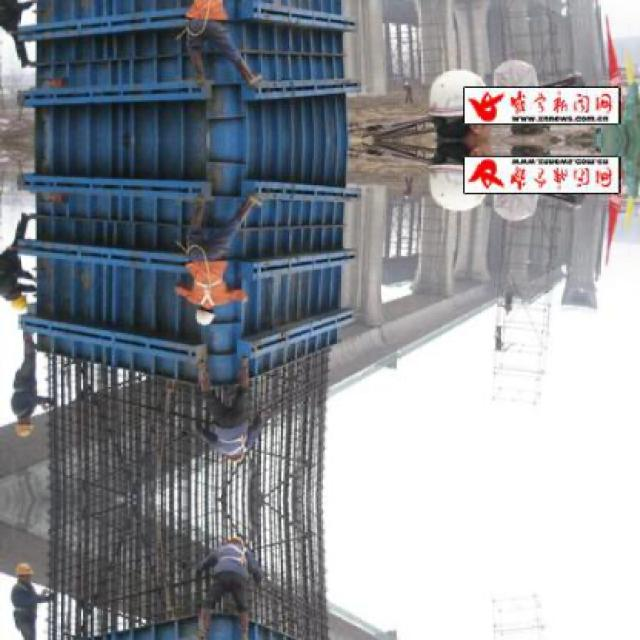con casco: (0, 411, 49, 456), (191, 299, 240, 343), (7, 276, 38, 325), (220, 461, 252, 491)
